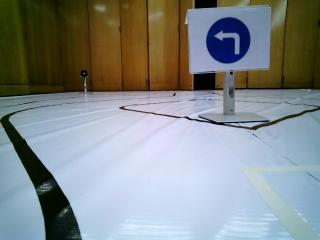left: (195, 12, 261, 67)
